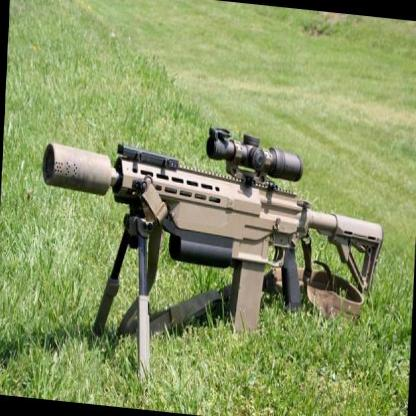rifle: (33, 102, 387, 332)
